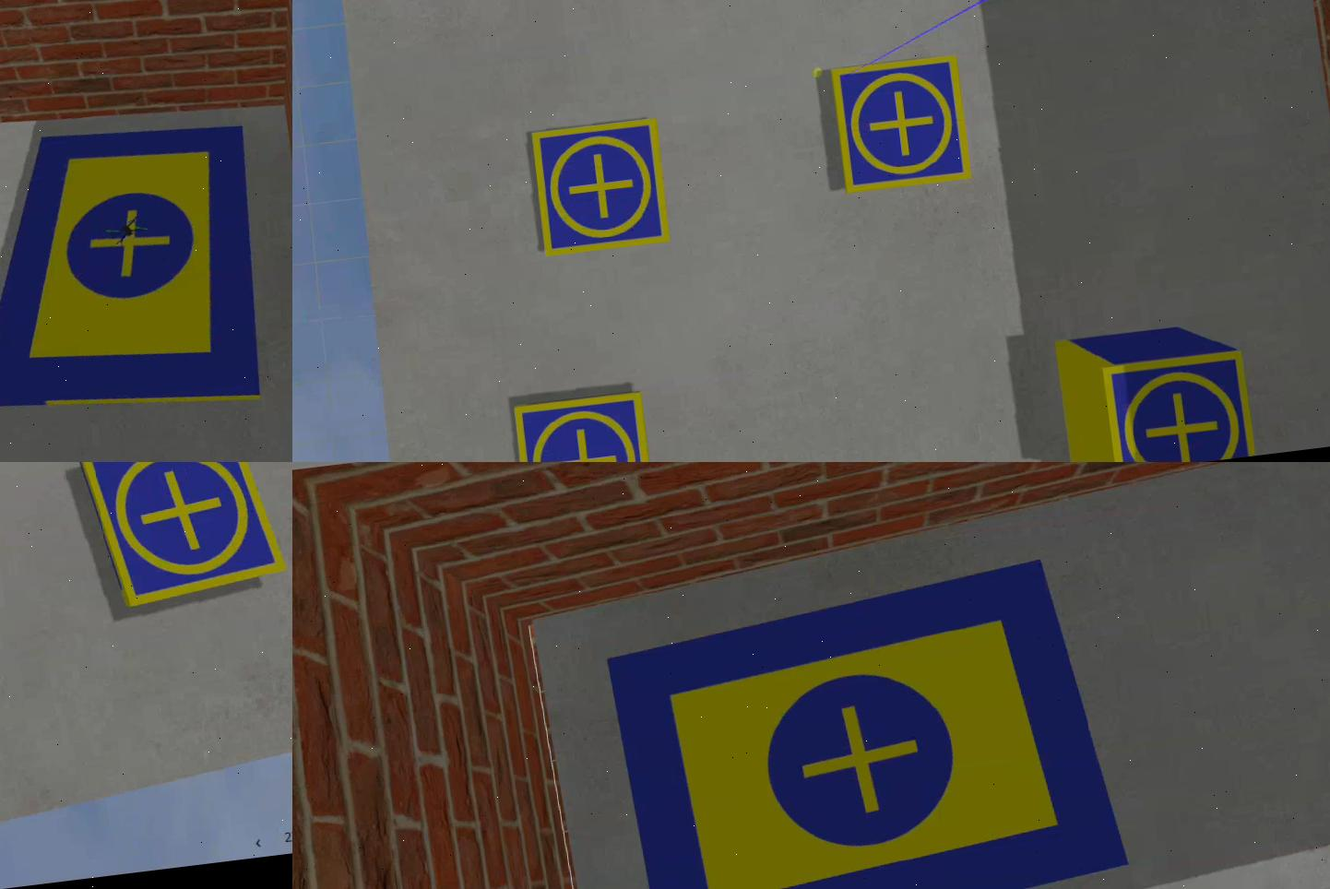large_base: (603, 555, 1136, 889), (1, 111, 276, 440)
small_base: (77, 463, 293, 619), (833, 57, 977, 196), (532, 118, 671, 261), (1098, 349, 1260, 463), (512, 390, 660, 463)
